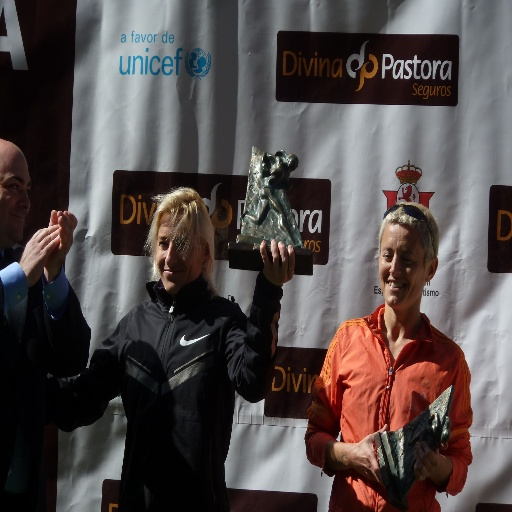hand: (11, 208, 58, 282), (355, 424, 389, 499), (258, 237, 296, 286), (47, 210, 78, 269), (413, 438, 450, 485)
